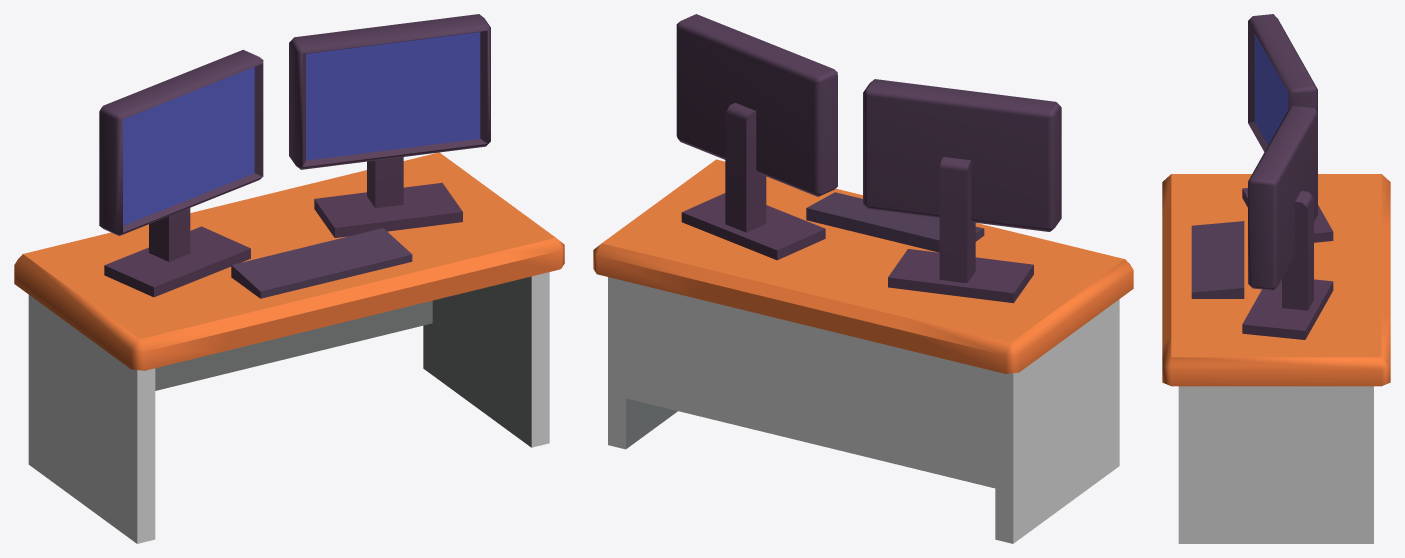
File: table pc break.fbx
3 views of the same model, side by side, from view 1: azimuth 30°, elevation 25°; view 2: azimuth 150°, elevation 25°; view 3: azimuth 270°, elevation 25° (orthographic). The views are drawn at different scales.
Visible parts, largest first — view 1: polySurface119, polySurface127, polySurface126, polySurface116, polySurface123, polySurface131, polySurface125, polySurface132, polySurface120, polySurface122, polySurface117, polySurface130; view 2: polySurface127, polySurface116, polySurface119, polySurface126, polySurface132, polySurface130, polySurface123, polySurface125, polySurface117, polySurface120, polySurface122; view 3: polySurface132, polySurface131, polySurface125, polySurface126, polySurface119, polySurface123, polySurface116, polySurface120, polySurface122, polySurface117.
Part boxes in pixels (x1=…): polySurface119: x1=289, y1=14, x2=490, y2=169; polySurface127: x1=28, y1=295, x2=198, y2=543; polySurface126: x1=137, y1=180, x2=523, y2=351; polySurface116: x1=99, y1=49, x2=263, y2=235; polySurface123: x1=14, y1=229, x2=232, y2=370; polySurface131: x1=468, y1=272, x2=549, y2=447; polySurface125: x1=326, y1=152, x2=564, y2=277; polySurface132: x1=316, y1=286, x2=490, y2=400; polySurface120: x1=314, y1=157, x2=462, y2=237; polySurface122: x1=231, y1=228, x2=412, y2=298; polySurface117: x1=104, y1=208, x2=250, y2=297; polySurface130: x1=188, y1=329, x2=318, y2=380; polySurface127: x1=859, y1=299, x2=1119, y2=543; polySurface116: x1=863, y1=79, x2=1061, y2=231; polySurface119: x1=676, y1=14, x2=837, y2=196; polySurface126: x1=696, y1=177, x2=1032, y2=350; polySurface132: x1=608, y1=277, x2=747, y2=449; polySurface130: x1=735, y1=311, x2=914, y2=454; polySurface123: x1=900, y1=237, x2=1133, y2=373; polySurface125: x1=593, y1=159, x2=766, y2=298; polySurface117: x1=888, y1=157, x2=1033, y2=303; polySurface120: x1=681, y1=103, x2=825, y2=260; polySurface122: x1=806, y1=192, x2=984, y2=252; polySurface132: x1=1244, y1=386, x2=1373, y2=543; polySurface131: x1=1178, y1=386, x2=1298, y2=543; polySurface125: x1=1162, y1=307, x2=1390, y2=386; polySurface126: x1=1162, y1=215, x2=1390, y2=343; polySurface119: x1=1248, y1=106, x2=1317, y2=290; polySurface123: x1=1162, y1=174, x2=1390, y2=228; polySurface116: x1=1248, y1=14, x2=1317, y2=151; polySurface120: x1=1242, y1=191, x2=1333, y2=339; polySurface122: x1=1191, y1=221, x2=1244, y2=298; polySurface117: x1=1242, y1=188, x2=1333, y2=242.
Size of the model in its own units: 128 by 112 by 64.83.
Materials: 1 (1 with a texture image).
